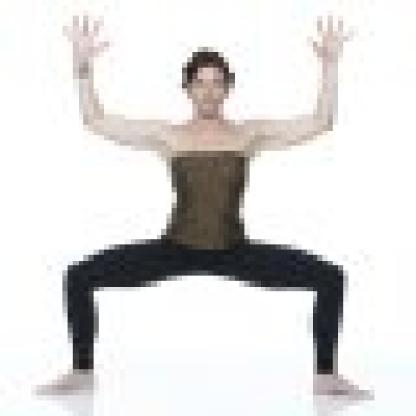godness: (24, 7, 387, 410)
